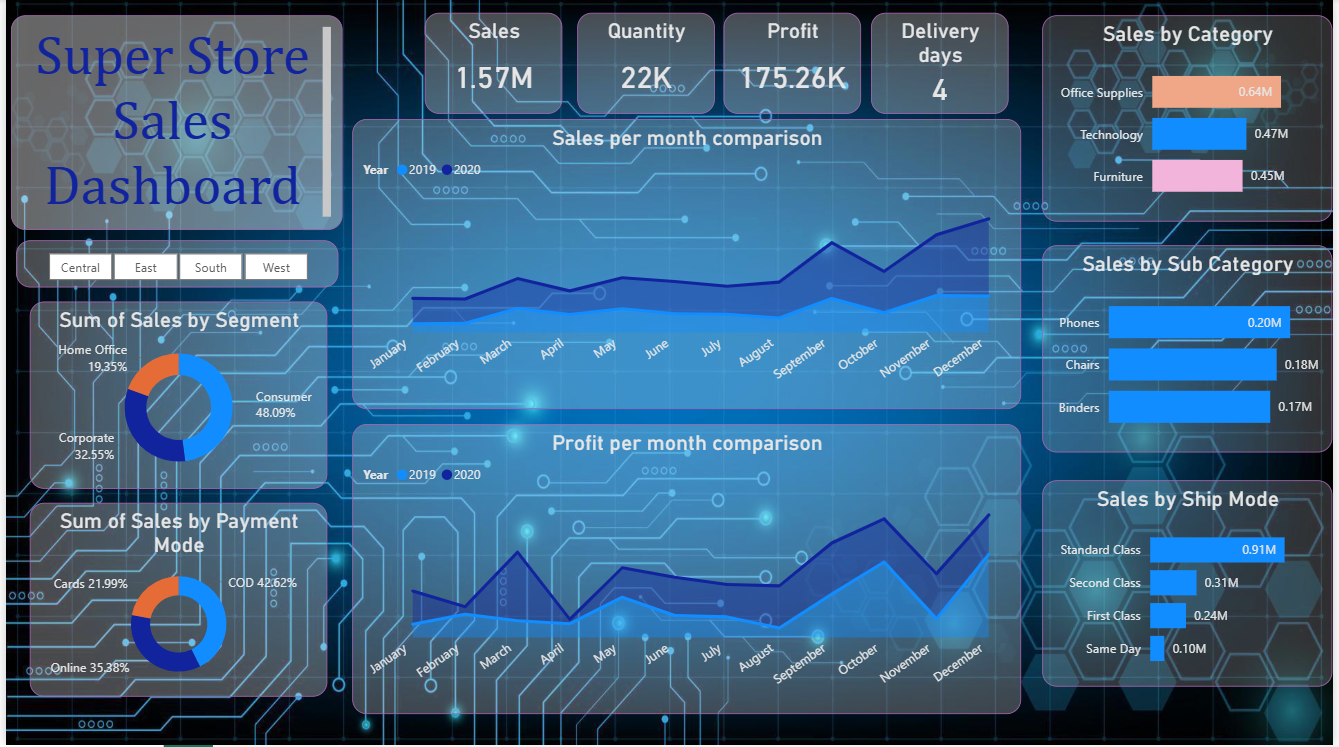

The dashboard page shown, as its layout file describes it:
{"tool":"powerbi","page":{"name":"Super sales Dashboard","canvas":[1280,720],"ordinal":0},"visuals":[{"type":"clusteredBarChart","title":"Sales by Category","fields":{"Y":["Sum(Table1.Sales)"],"Category":["Table1.Category"]},"box":[1000.1,15.7,279.9,199.1],"z":0},{"type":"clusteredBarChart","title":"Sales by Sub Category","fields":{"Y":["Sum(Table1.Sales)"],"Category":["Table1.Sub-Category"]},"box":[1000.1,237.7,279.9,200.3],"z":1000},{"type":"clusteredBarChart","title":"Sales by Ship Mode","fields":{"Y":["Sum(Table1.Sales)"],"Category":["Table1.Ship Mode"]},"box":[1000.1,464.5,279.9,199.1],"z":2000},{"type":"stackedAreaChart","title":"Sales per month comparison","fields":{"Category":["Table1.Order Date.Variation.Date Hierarchy.Month"],"Y":["Sum(Table1.Sales)"],"Series":["Table1.Order Date.Variation.Date Hierarchy.Year"]},"box":[334.2,115.8,645.4,279.9],"z":3000},{"type":"stackedAreaChart","title":"Profit per month comparison","fields":{"Category":["Table1.Order Date.Variation.Date Hierarchy.Month"],"Series":["Table1.Order Date.Variation.Date Hierarchy.Year"],"Y":["Sum(Table1.Profit)"]},"box":[334.2,410.2,645.4,279.9],"z":4000},{"type":"donutChart","fields":{"Category":["Table1.Segment"],"Y":["Sum(Table1.Sales)"]},"box":[22.9,292,287.1,181],"z":5000},{"type":"donutChart","fields":{"Category":["Table1.Payment Mode"],"Y":["Sum(Table1.Sales)"]},"box":[22.9,486.2,287.1,187],"z":6000},{"type":"card","title":"Sales","fields":{"Values":["Sum(Table1.Sales)"]},"box":[404.2,13.3,132.7,97.7],"z":7000},{"type":"card","title":"Quantity","fields":{"Values":["Sum(Table1.Quantity)"]},"box":[551.3,13.3,132.7,97.7],"z":8000},{"type":"card","title":"Profit","fields":{"Values":["Sum(Table1.Profit)"]},"box":[692.5,13.3,132.7,97.7],"z":9000},{"type":"card","title":"Delivery days","fields":{"Values":["Avg(Table1.AvgDelivery)"]},"box":[834.9,13.3,132.7,97.7],"z":10000},{"type":"textbox","box":[4.8,15.7,319.7,207.5],"z":11000},{"type":"slicer","fields":{"Values":["Table1.Region"]},"box":[9.6,233.3,311.5,45.3],"z":12000}]}

Visuals, with their boxes in screenshot pixels (x1, y1, x2, y2), scaled from the page's 1280x720 canvas onto the 1339x747 screenshot:
"Sales by Category" clusteredBarChart: 1046 16 1338 223
"Sales by Sub Category" clusteredBarChart: 1046 247 1338 454
"Sales by Ship Mode" clusteredBarChart: 1046 482 1338 688
"Sales per month comparison" stackedAreaChart: 350 120 1025 411
"Profit per month comparison" stackedAreaChart: 350 426 1025 716
donutChart - Table1.Segment x Sum(Table1.Sales): 24 303 324 491
donutChart - Table1.Payment Mode x Sum(Table1.Sales): 24 504 324 698
"Sales" card: 423 14 562 115
"Quantity" card: 577 14 716 115
"Profit" card: 724 14 863 115
"Delivery days" card: 873 14 1012 115
textbox: 5 16 339 232
slicer - Table1.Region: 10 242 336 289
